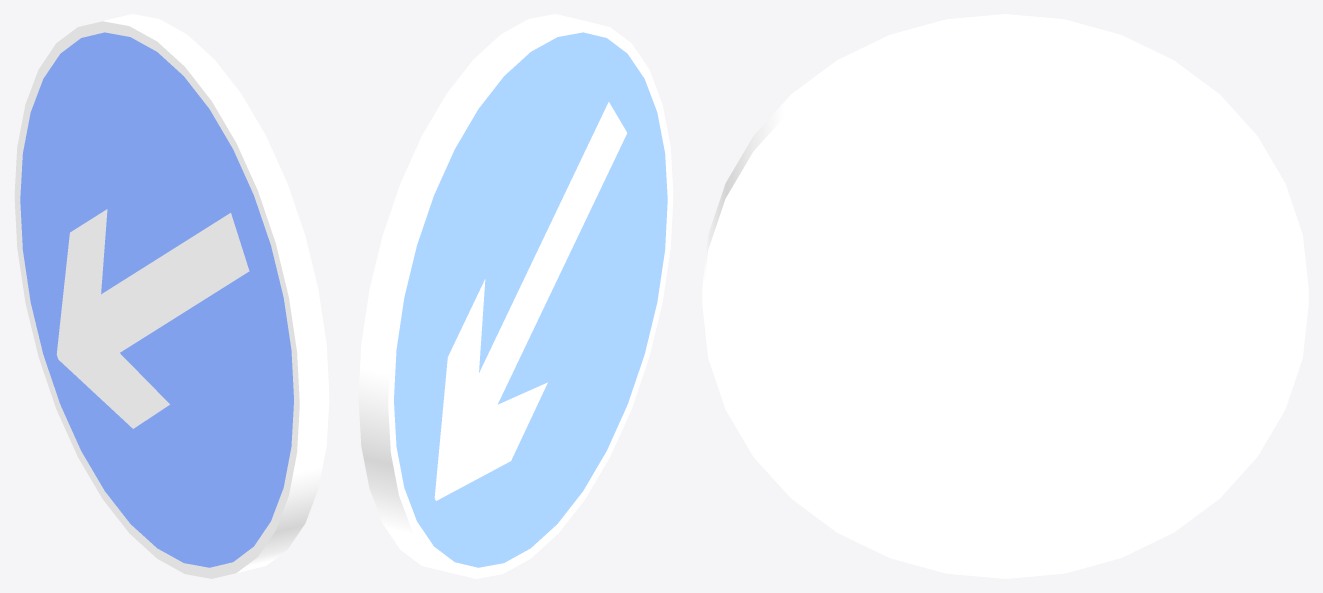
The model's file is LeftSide_Of_The_Road_Driving.glb.
3 views of the same model, side by side, from view 1: azimuth 30°, elevation 25°; view 2: azimuth 150°, elevation 25°; view 3: azimuth 270°, elevation 25° (orthographic). The views are drawn at different scales.
Parts seen in each view (by area): view 1: LeftSide_Of_The_Road_Driving; view 2: LeftSide_Of_The_Road_Driving; view 3: LeftSide_Of_The_Road_Driving.
Boxes of the visible parts, left/top/right/bottom form: LeftSide_Of_The_Road_Driving: left=14, top=14, right=329, bottom=578; LeftSide_Of_The_Road_Driving: left=358, top=14, right=673, bottom=578; LeftSide_Of_The_Road_Driving: left=702, top=14, right=1308, bottom=578.
Size of the model in its own units: 0.0643 by 1 by 1.
